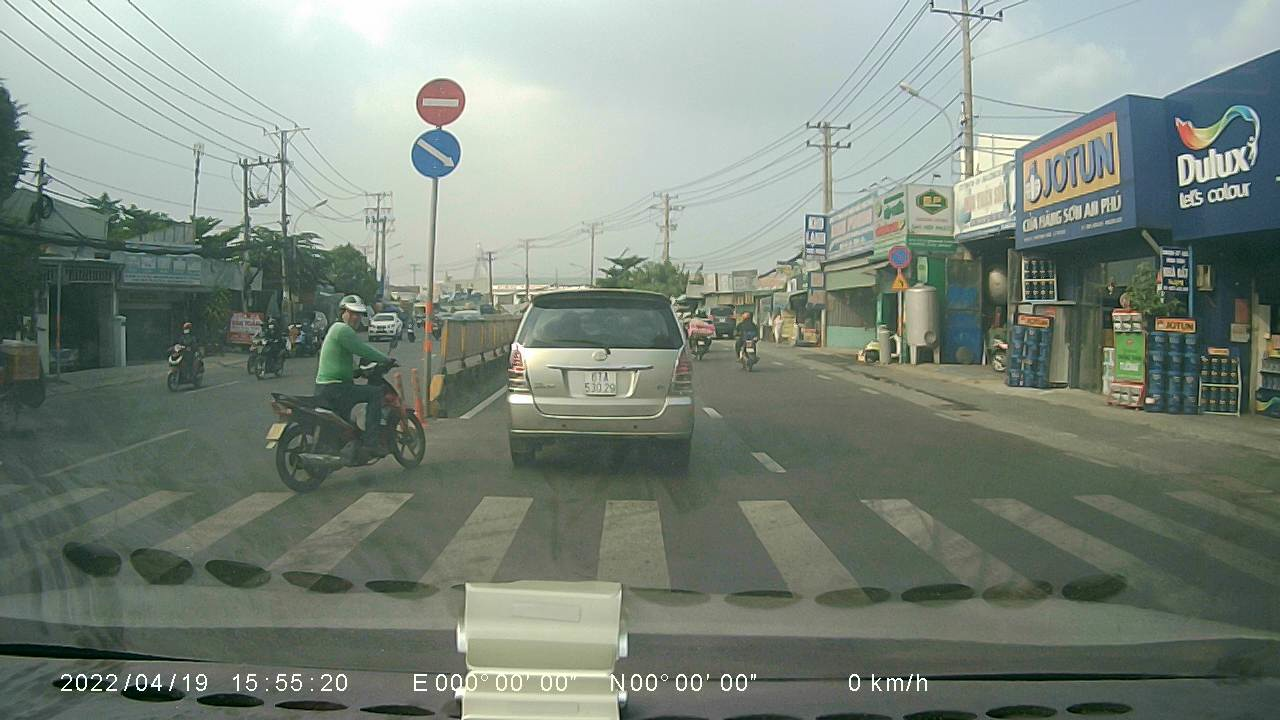Cam di nguoc chieu: (414, 77, 469, 127)
Cam do xe: (888, 243, 912, 269)
Huong di phai re phai: (410, 130, 465, 180)
